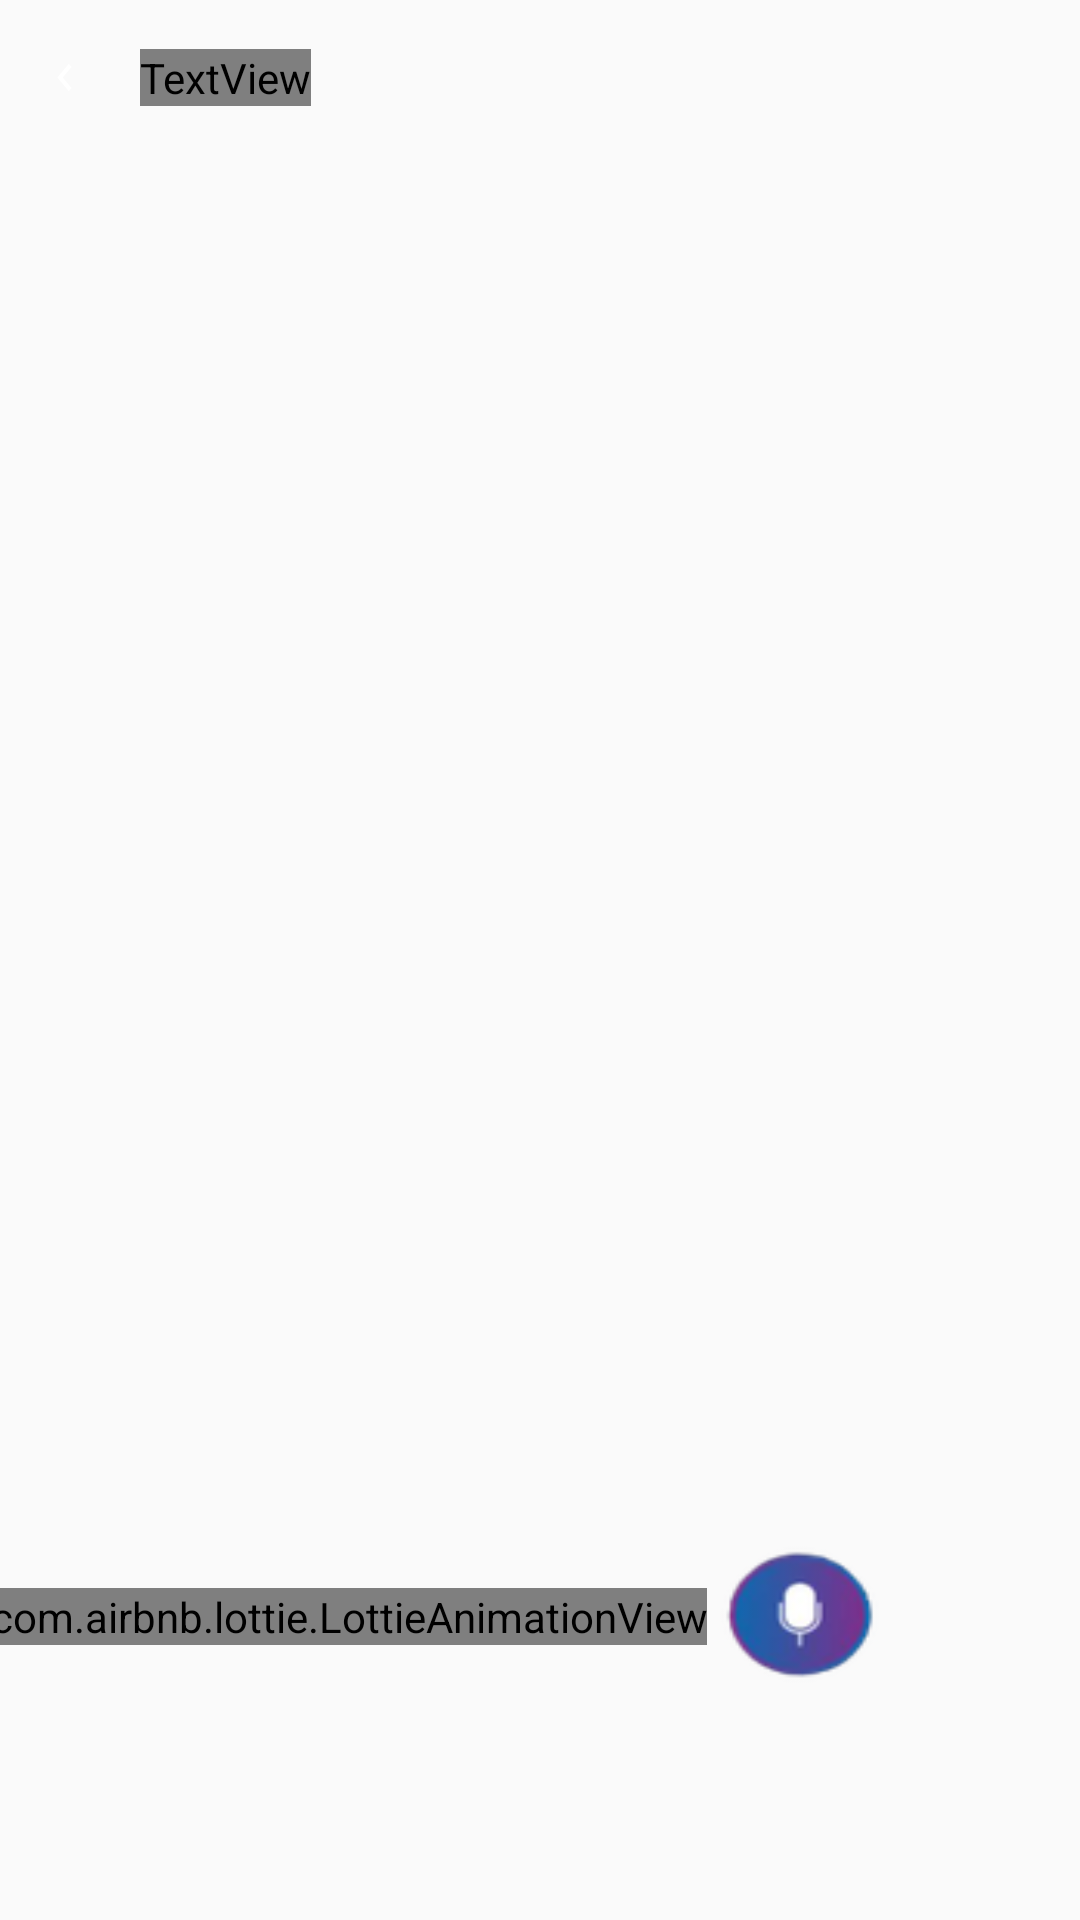

Locate icon controls on the screen. Image size 1080 x 1920, boxes as (x1, y1, x2, y2).
voice: (728, 1552, 873, 1677)
